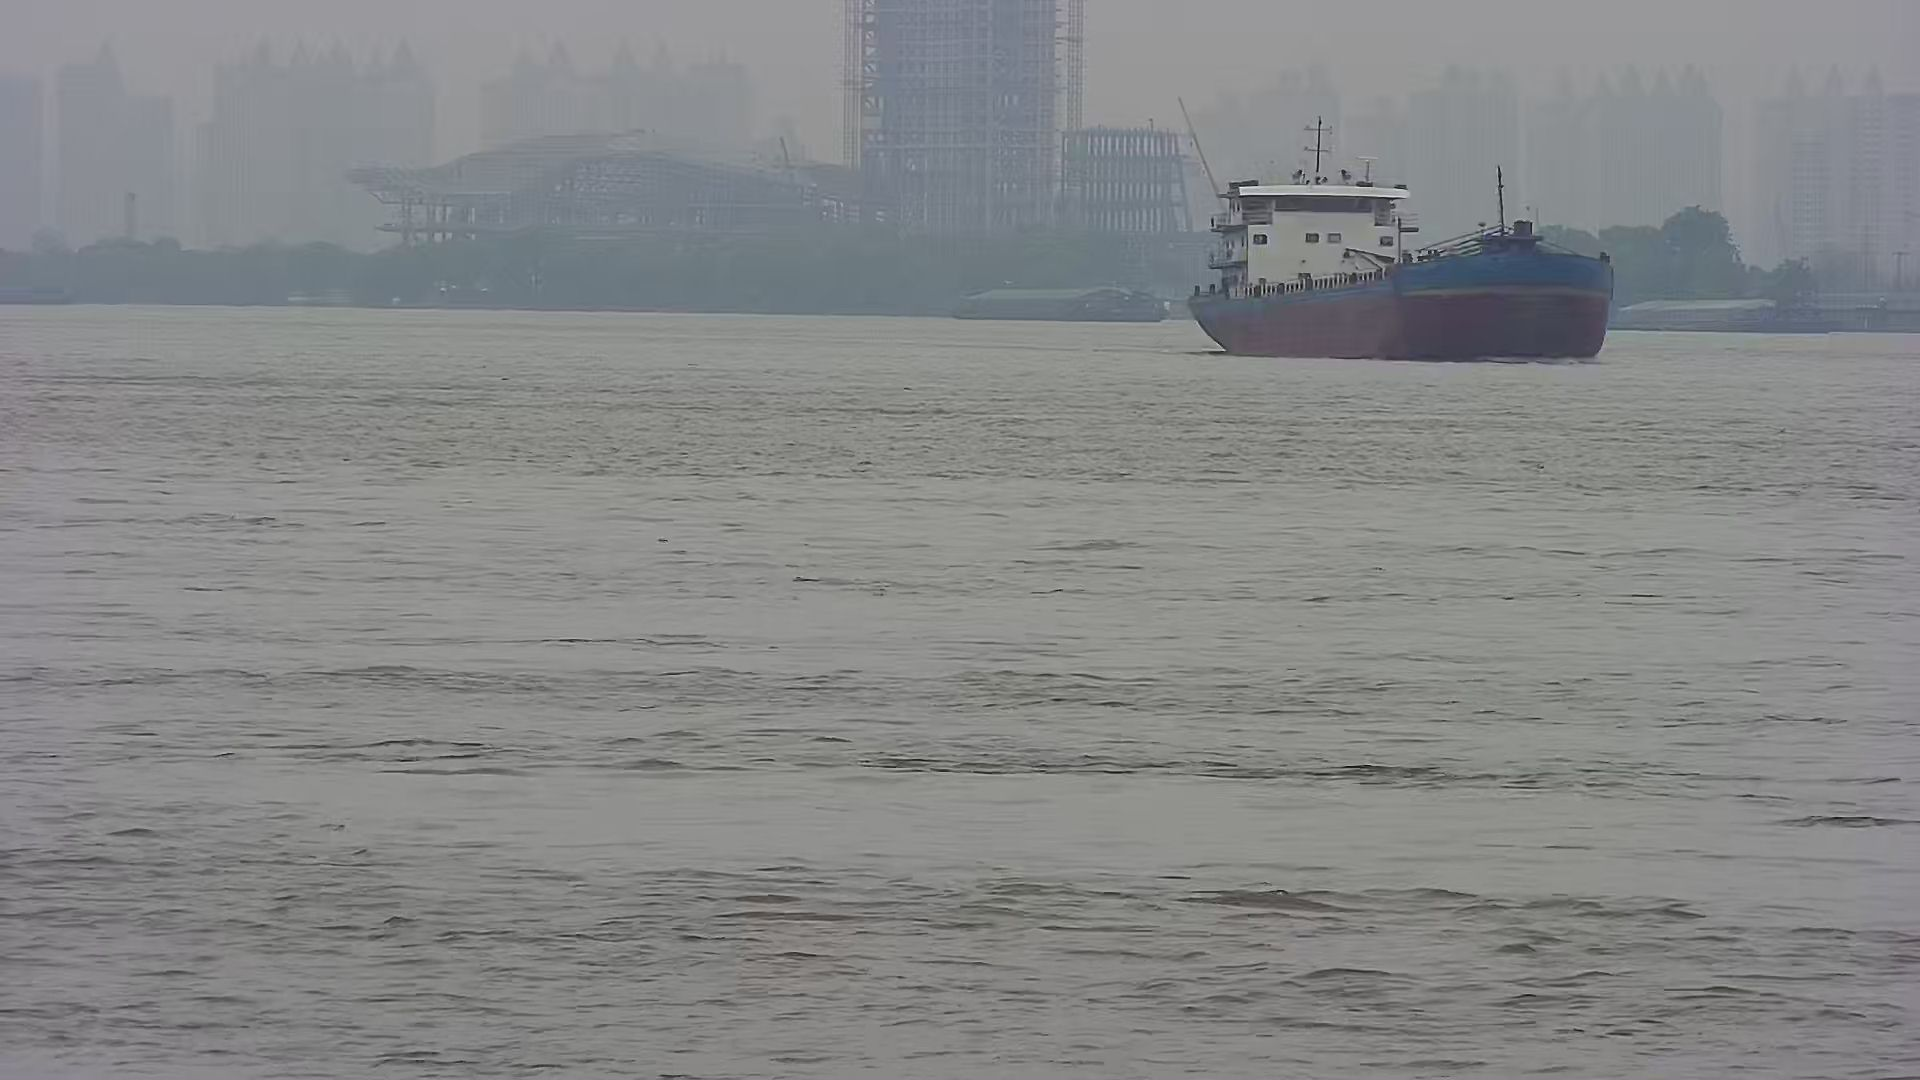ship: (1182, 127, 1629, 367), (945, 270, 1178, 328)
